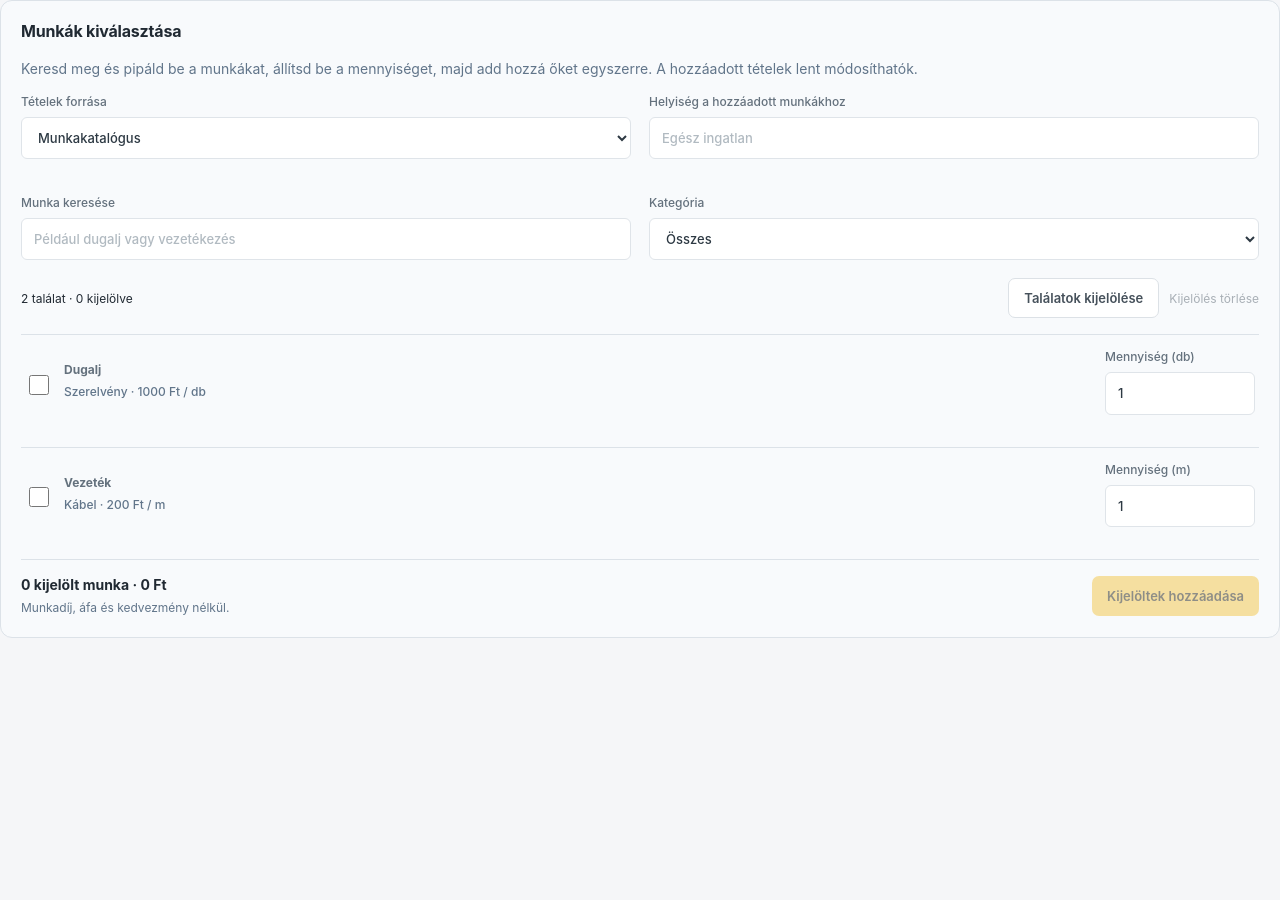
szűrés közben megőrzi a kijelölést, mennyiséget és receptet; csak kijelölteket ad hozzá
The image size is (1280, 900).
Step 1. Click the checkbox labelled "Dugalj Szerelvény · 1000 Ft / db" → (39, 385), box [29,375,49,395]
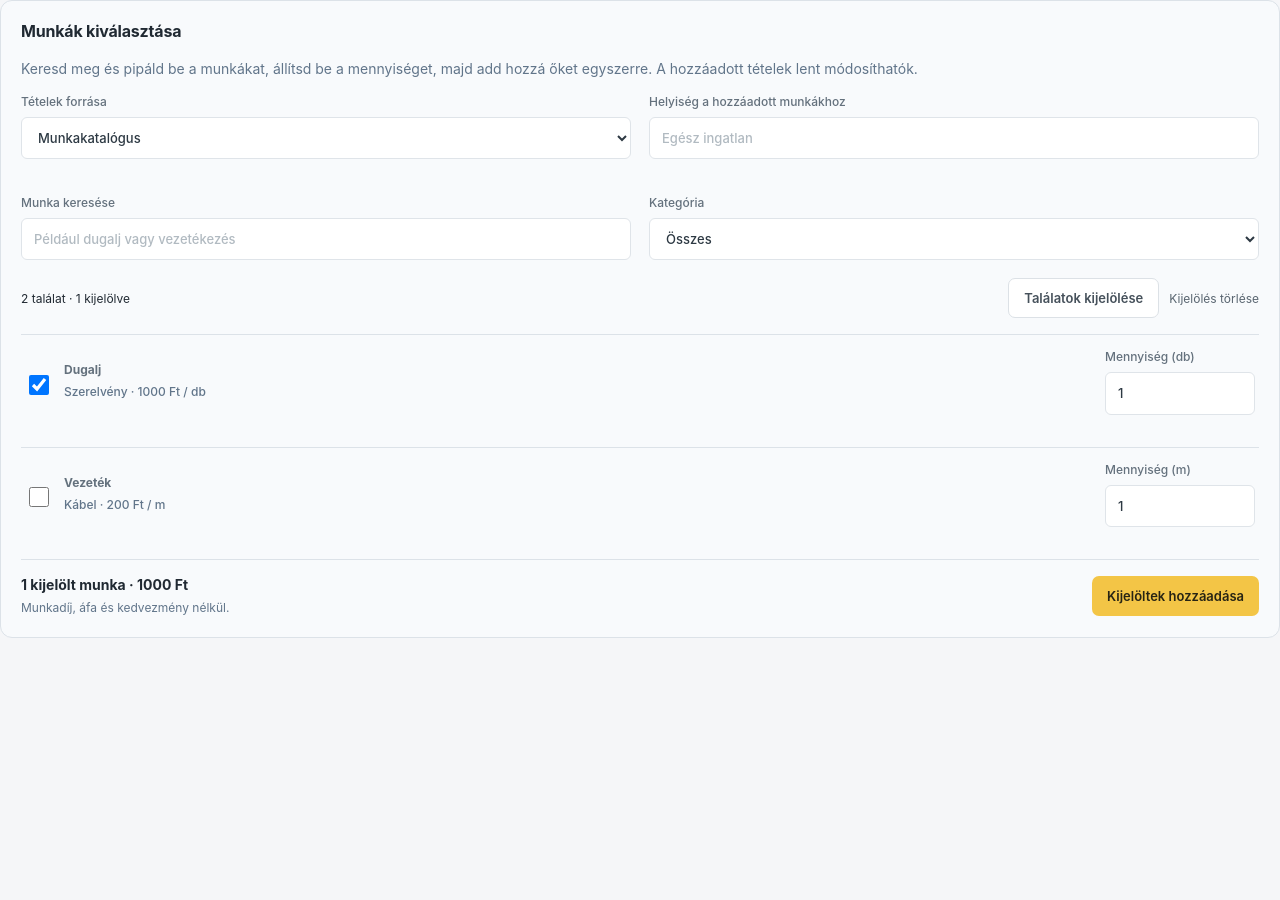
Step 2. Replace the text in the field named "Dugalj mennyisége" with "2,5" → (1180, 394), box [1105,372,1255,415]
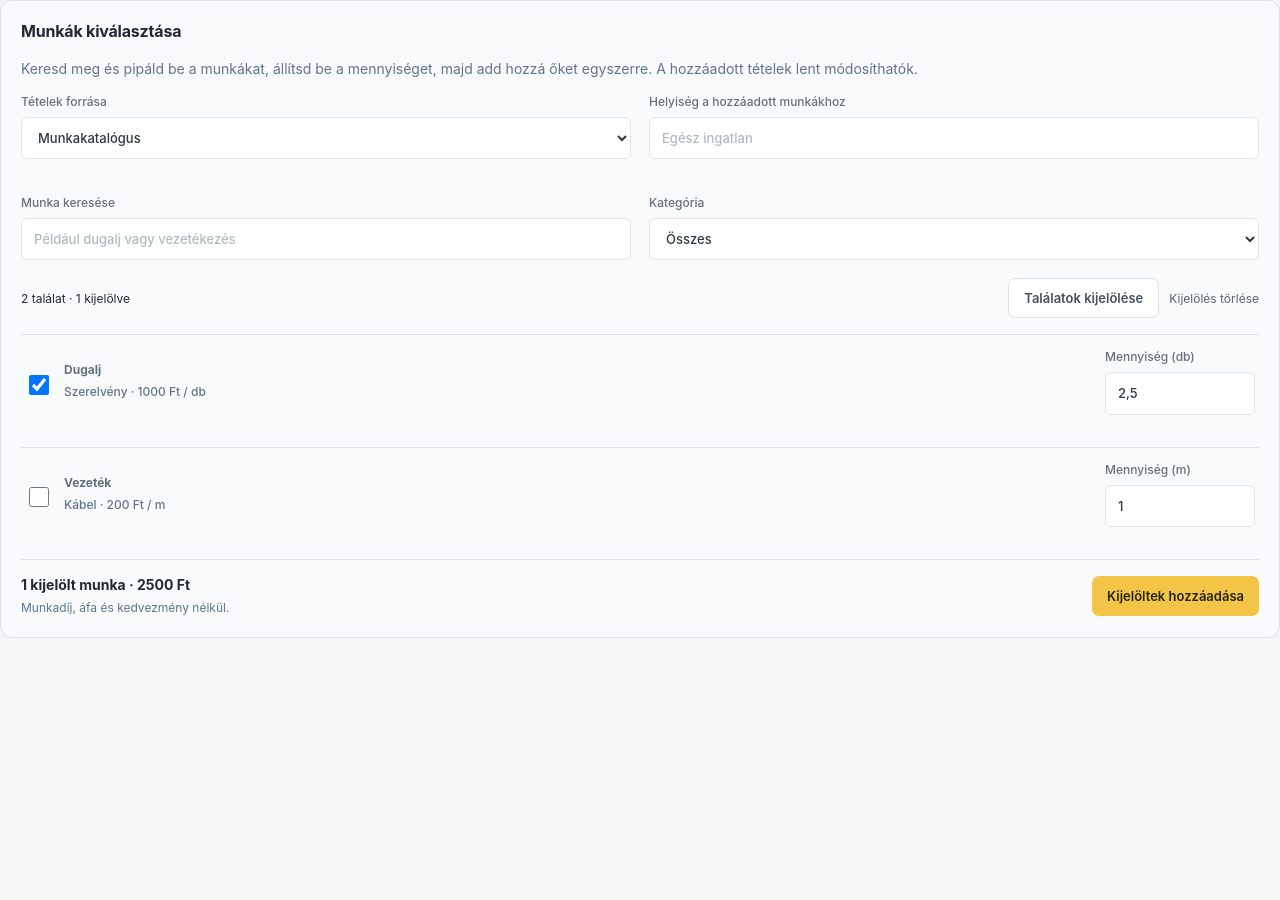
Step 3. Type "Nappali" into the field labelled "Helyiség a hozzáadott munkákhoz" → (954, 138), box [649,117,1259,159]
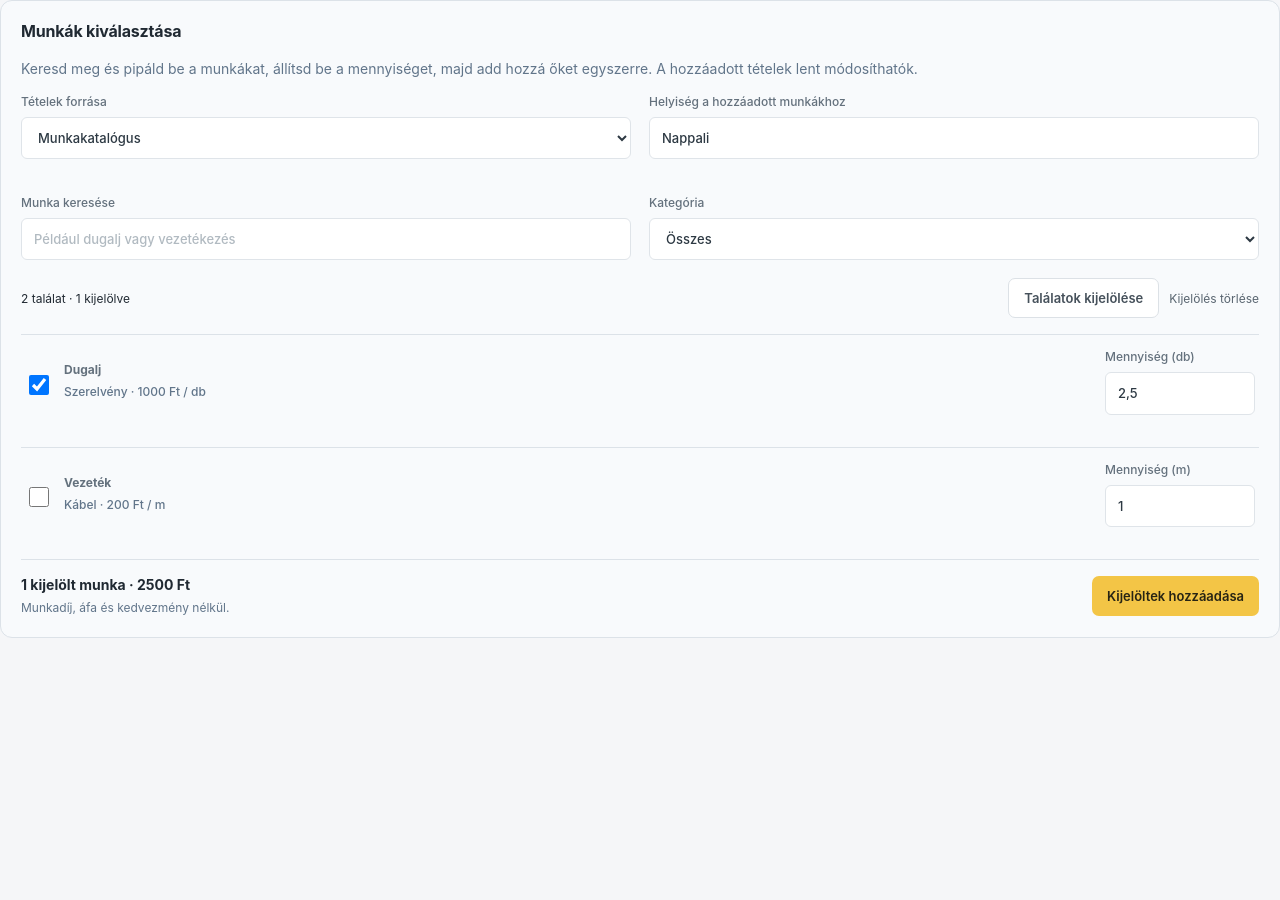
Step 4. Type "Vezeték" into the search field labelled "Munka keresése" → (326, 239), box [21,218,631,260]
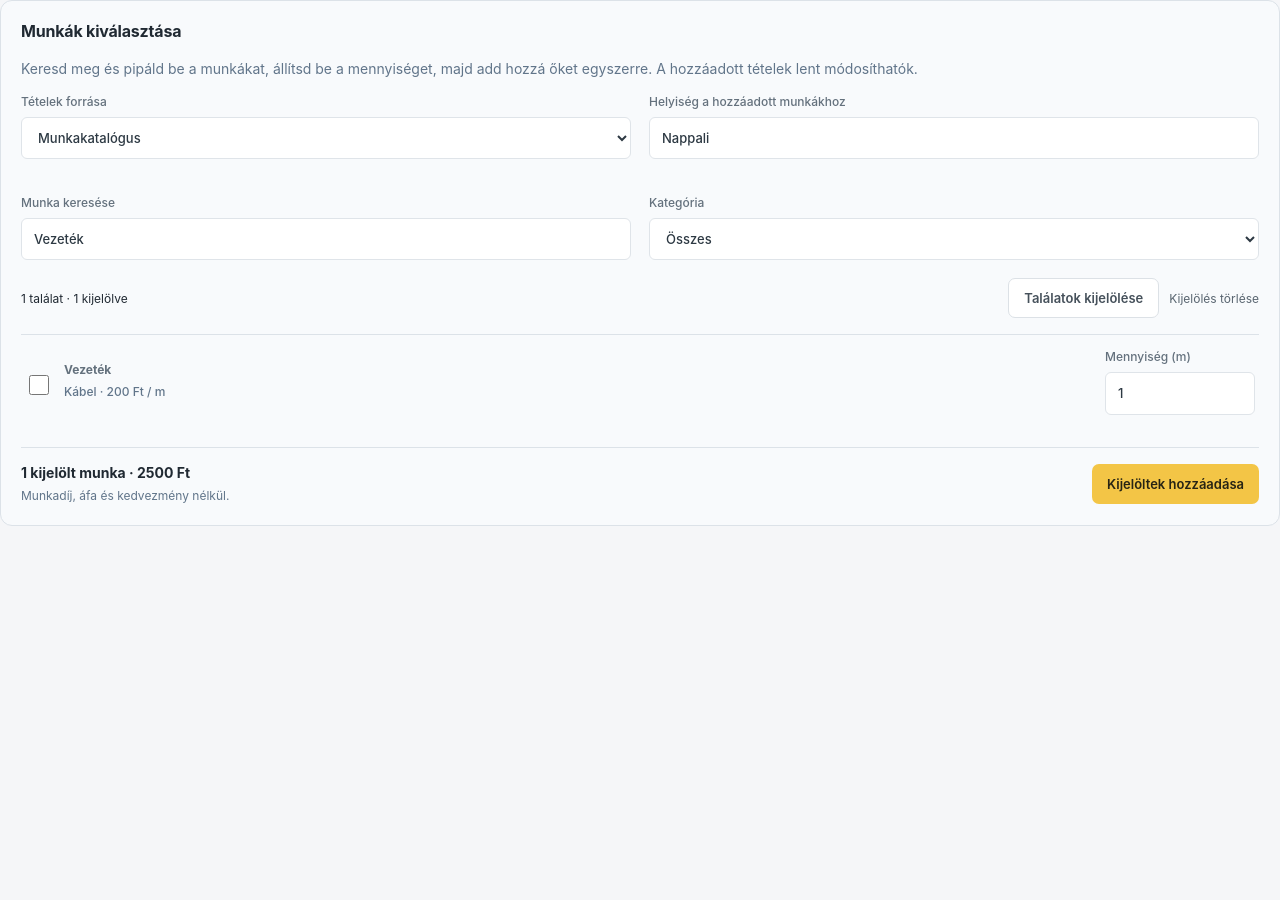
Step 5. Click the button "Kijelöltek hozzáadása" → (1176, 484), box [1092,464,1259,504]
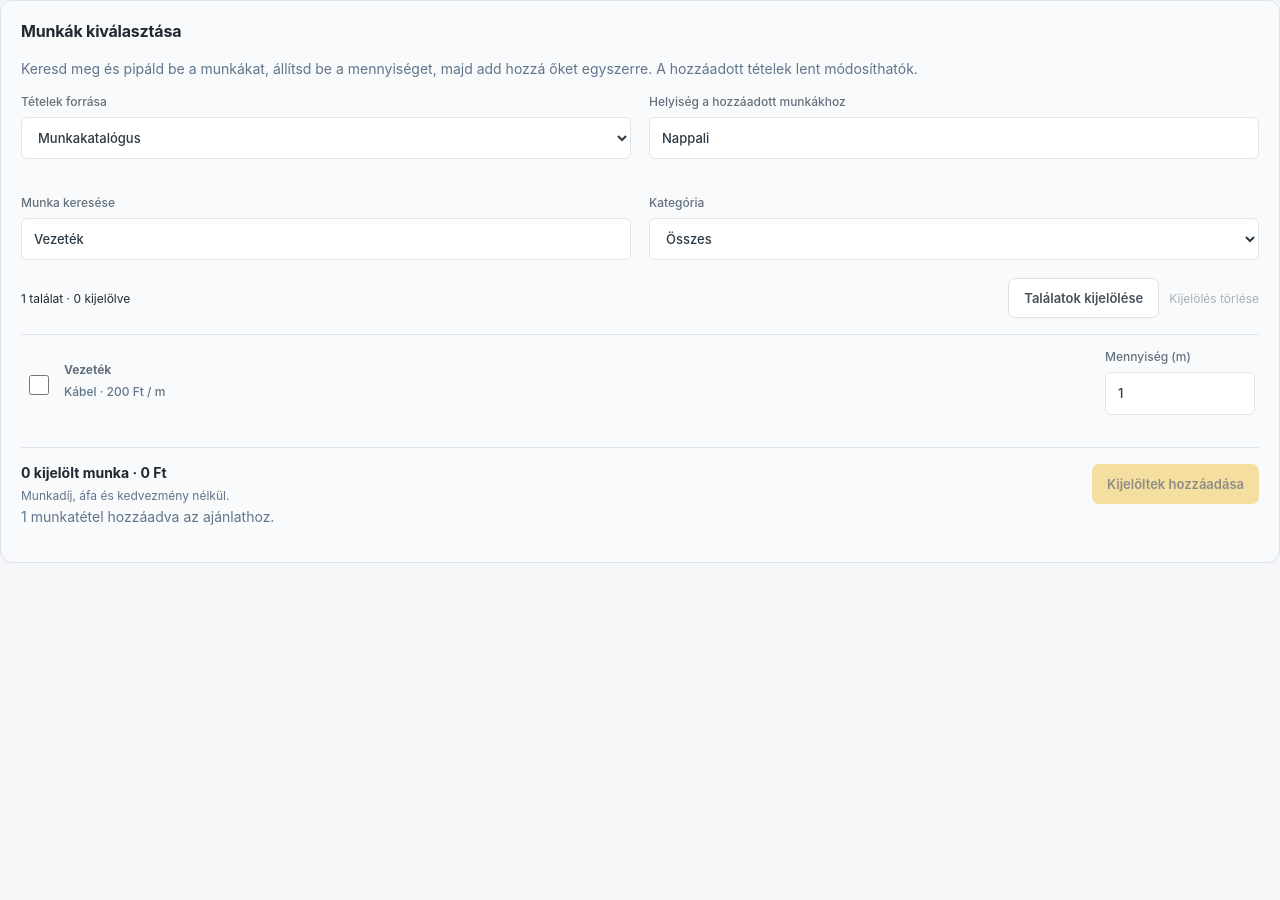
Expected: the button "Kijelöltek hozzáadása" is disabled, [1092,464,1259,504]
